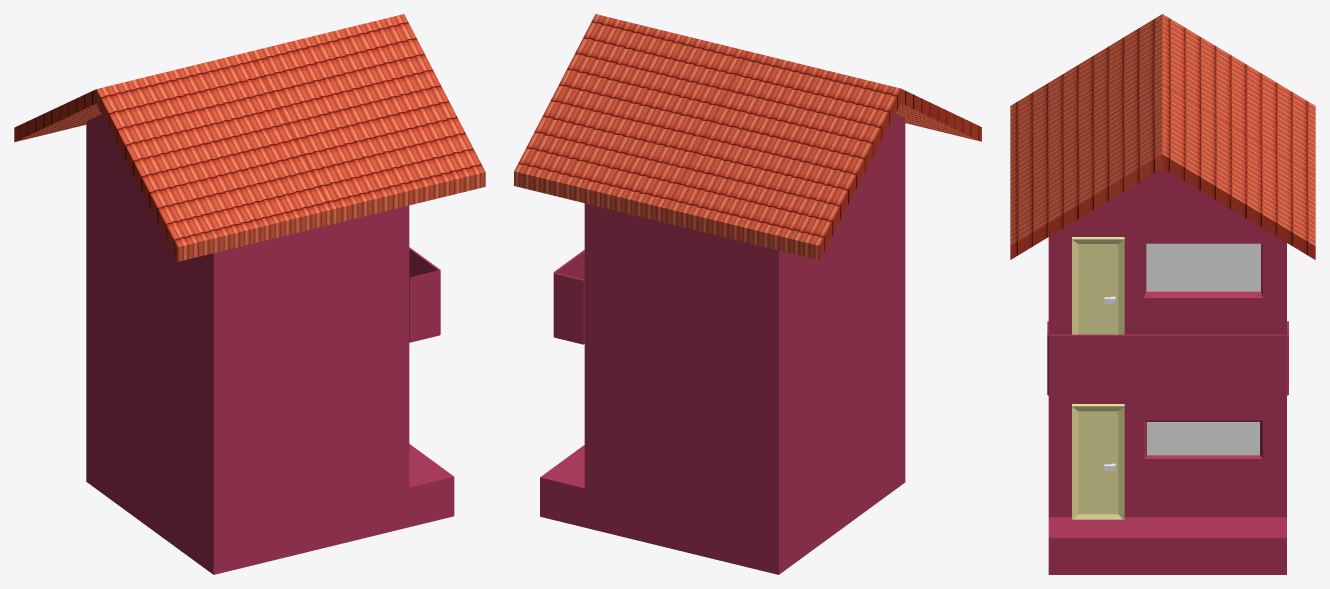
The model's file is Rumah Kedua (1).fbx.
3 renders of one model, left to right at view 1: azimuth 30°, elevation 25°; view 2: azimuth 150°, elevation 25°; view 3: azimuth 270°, elevation 25°, orthographic. The views are drawn at different scales.
Parts seen in each view (by area): view 1: Cube, Genteng.001; view 2: Cube, Genteng.001; view 3: Cube, Genteng.001, Cube.003, Cube.004.
Part boxes in pixels (bbox=[...]): Cube: bbox=[86, 114, 454, 574]; Genteng.001: bbox=[14, 14, 485, 261]; Cube: bbox=[540, 114, 905, 574]; Genteng.001: bbox=[514, 14, 981, 260]; Cube: bbox=[1047, 168, 1288, 574]; Genteng.001: bbox=[1010, 14, 1315, 259]; Cube.003: bbox=[1072, 404, 1124, 519]; Cube.004: bbox=[1072, 237, 1124, 334].
Bounding box in the file's own units: 813 × 1149 × 748.
7 materials, 1 textured.
